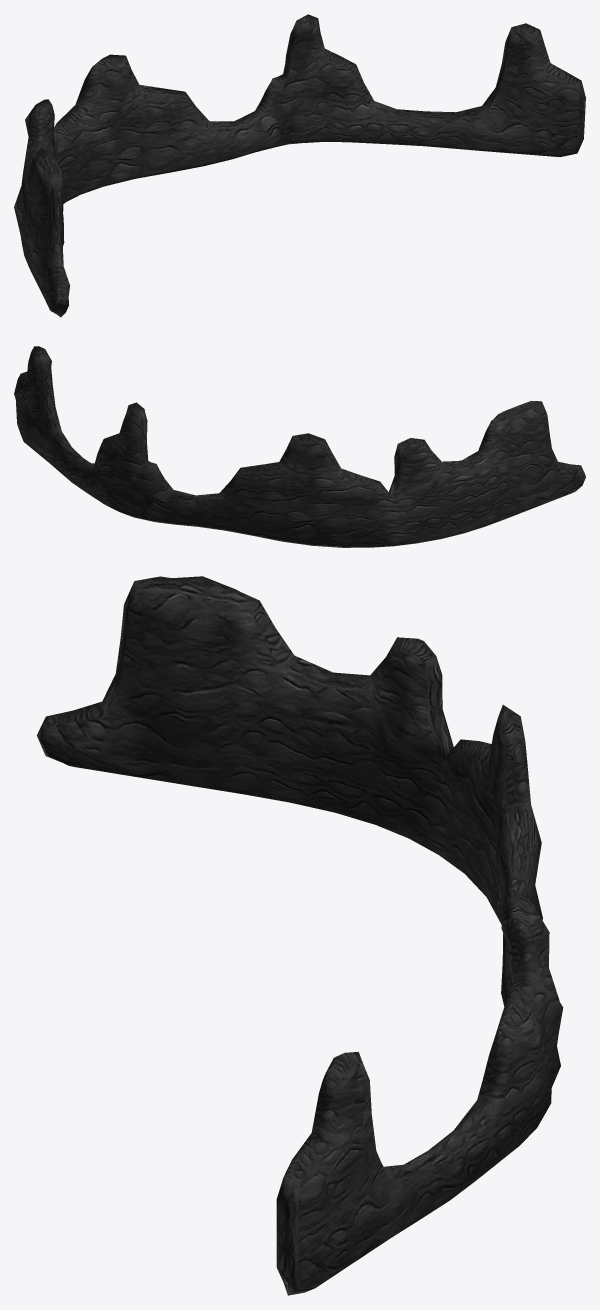
File: RoundWall4Shape.dae
3 views of the same model, one above another, from view 1: azimuth 30°, elevation 25°; view 2: azimuth 150°, elevation 25°; view 3: azimuth 270°, elevation 25° (orthographic). The views are drawn at different scales.
Visible parts, largest first — view 1: RoundWall4; view 2: RoundWall4; view 3: RoundWall4.
Part boxes in pixels (x1,y1,x2,y2): RoundWall4: (14,14,585,317); RoundWall4: (14,346,585,547); RoundWall4: (37,576,563,1295).
Size of the model in its own units: 28.76 by 7.09 by 12.89.
